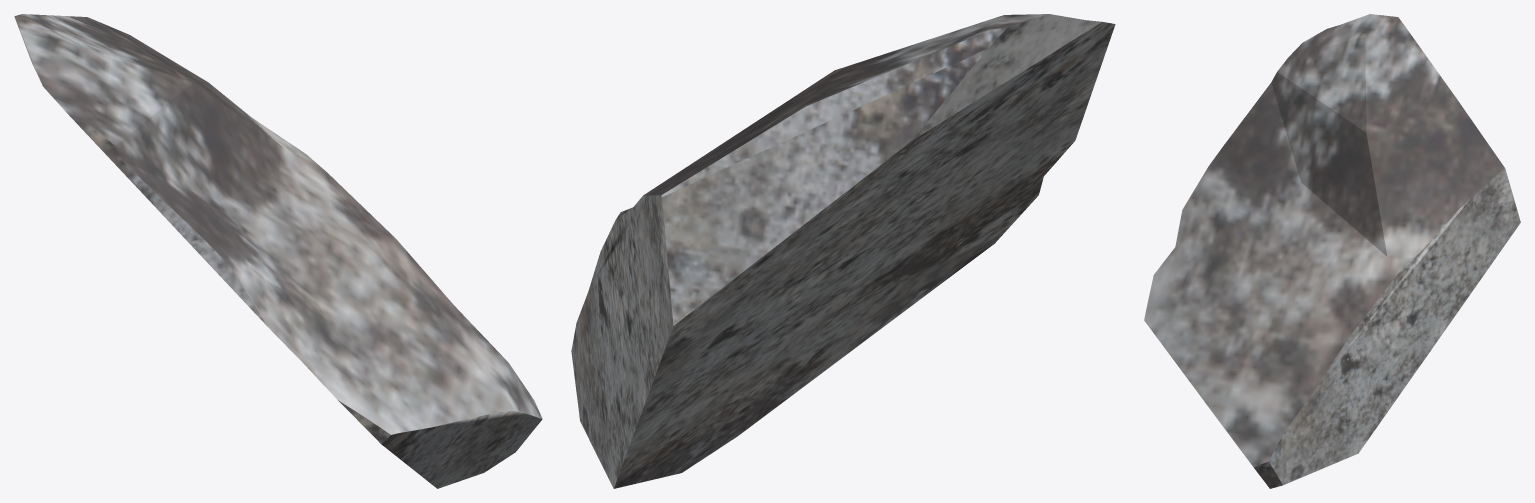
The model's file is Asteroid_Large_001_02_010_03_002.fbx.
3 renders of one model, left to right at view 1: azimuth 30°, elevation 25°; view 2: azimuth 150°, elevation 25°; view 3: azimuth 270°, elevation 25°, orthographic. The views are drawn at different scales.
Visible parts, largest first — view 1: Asteroid_Large_001_02_010_03_002; view 2: Asteroid_Large_001_02_010_03_002; view 3: Asteroid_Large_001_02_010_03_002.
Boxes of the visible parts, x1,y1,x2,y2 form: Asteroid_Large_001_02_010_03_002: (14,14,542,488); Asteroid_Large_001_02_010_03_002: (571,14,1115,488); Asteroid_Large_001_02_010_03_002: (1144,14,1520,488).
Size of the model in its own units: 9.69 by 10.06 by 9.97.
